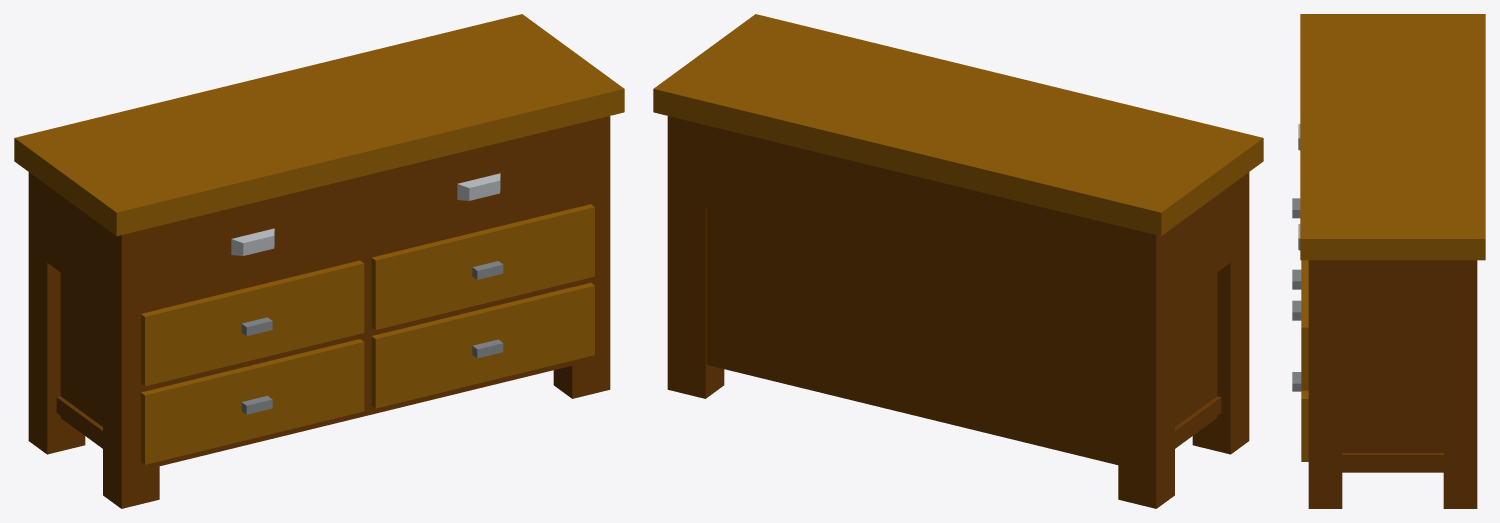
Rendered from dresser.glb.
The picture shows the model from 3 angles, left to right: view 1: azimuth 30°, elevation 25°; view 2: azimuth 150°, elevation 25°; view 3: azimuth 270°, elevation 25°; orthographic projection. The views are drawn at different scales.
Parts seen in each view (by area): view 1: dresser; view 2: dresser; view 3: dresser.
Boxes of the visible parts, x1,y1,x2,y2 form: dresser: (14,14,624,508); dresser: (653,14,1263,508); dresser: (1292,14,1485,508).
Bounding box in the file's own units: 1.76 × 1 × 0.64.
